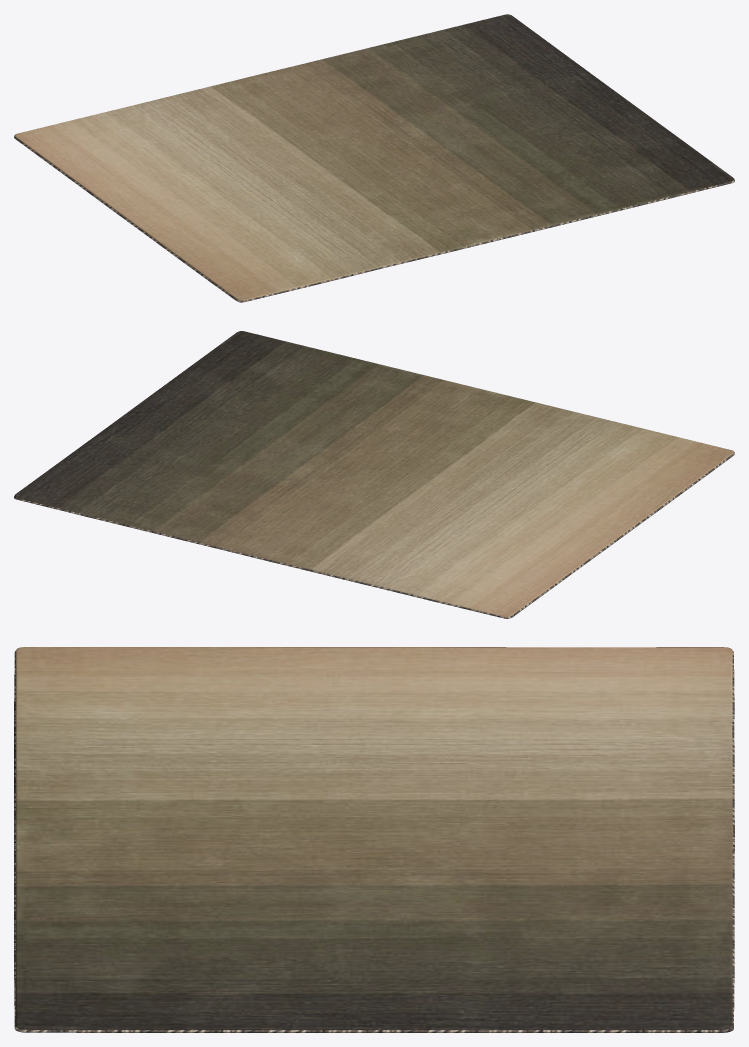
The model's file is B071SHHZT2.glb.
3 renders of one model, top to bottom at view 1: azimuth 30°, elevation 25°; view 2: azimuth 150°, elevation 25°; view 3: azimuth 270°, elevation 25°, orthographic. The views are drawn at different scales.
Visible parts, largest first — view 1: RootNode; view 2: RootNode; view 3: RootNode.
Boxes of the visible parts, x1=… form: RootNode: x1=14, y1=14, x2=734, y2=302; RootNode: x1=14, y1=331, x2=734, y2=618; RootNode: x1=14, y1=647, x2=734, y2=1032.
Bounding box in the file's own units: 2.9 × 0.0171 × 2.31.
1 material, 1 textured.
